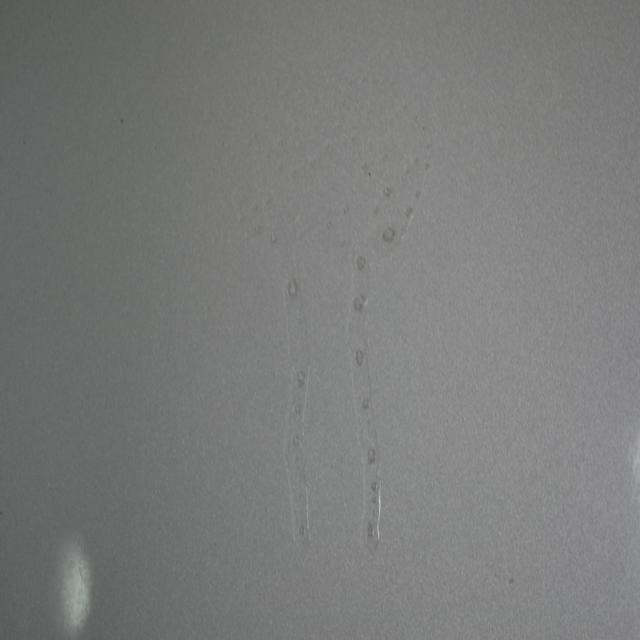dirt: (21, 134, 28, 150), (367, 170, 374, 179), (118, 116, 124, 126)
runs: (210, 55, 434, 559)
